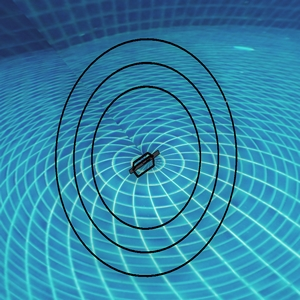circle: (47, 22, 247, 287)
